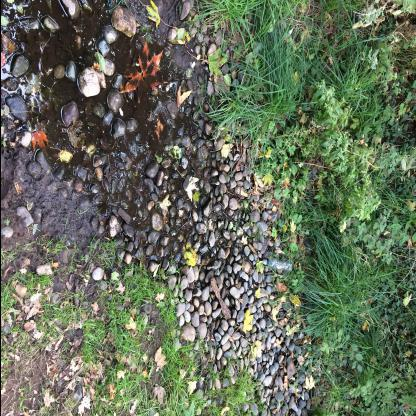plastik: (263, 258, 294, 274)
